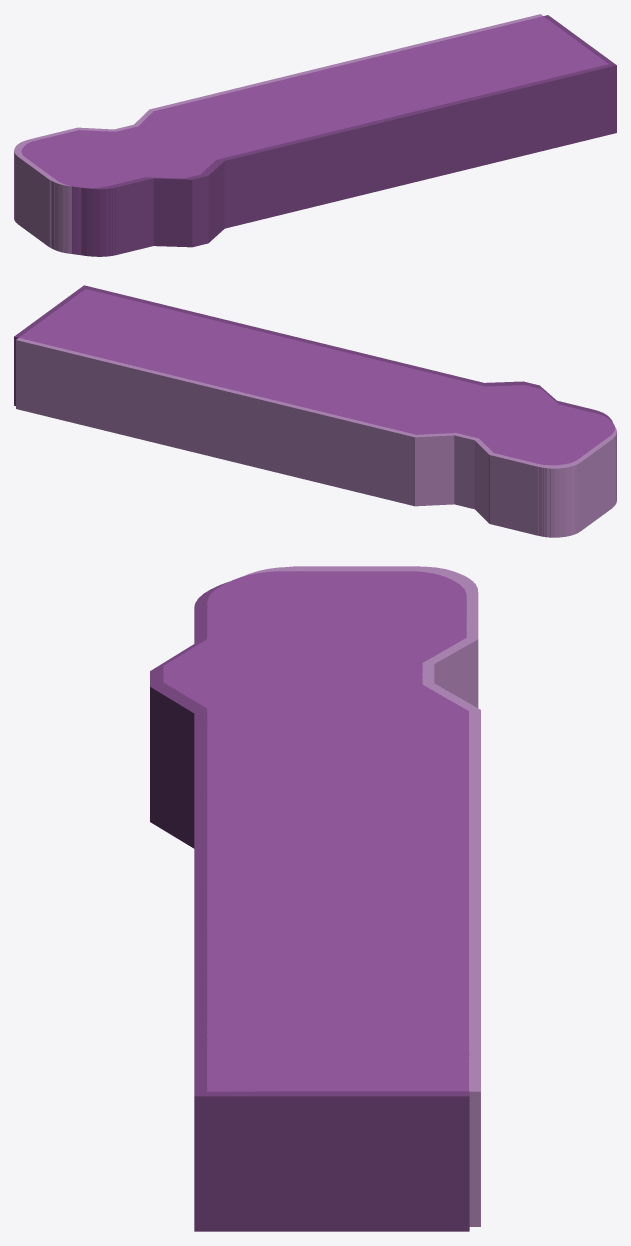
Rendered from blockly.fbx.
The picture shows the model from 3 angles, top to bottom: view 1: azimuth 30°, elevation 25°; view 2: azimuth 150°, elevation 25°; view 3: azimuth 270°, elevation 25°; orthographic projection. The views are drawn at different scales.
Parts seen in each view (by area): view 1: Curve.176; view 2: Curve.176; view 3: Curve.176.
Boxes of the visible parts, x1,y1,x2,y2 form: Curve.176: (14,14,616,256); Curve.176: (14,285,616,537); Curve.176: (150,566,480,1231).
Size of the model in its own units: 59.36 by 7.07 by 15.66.
